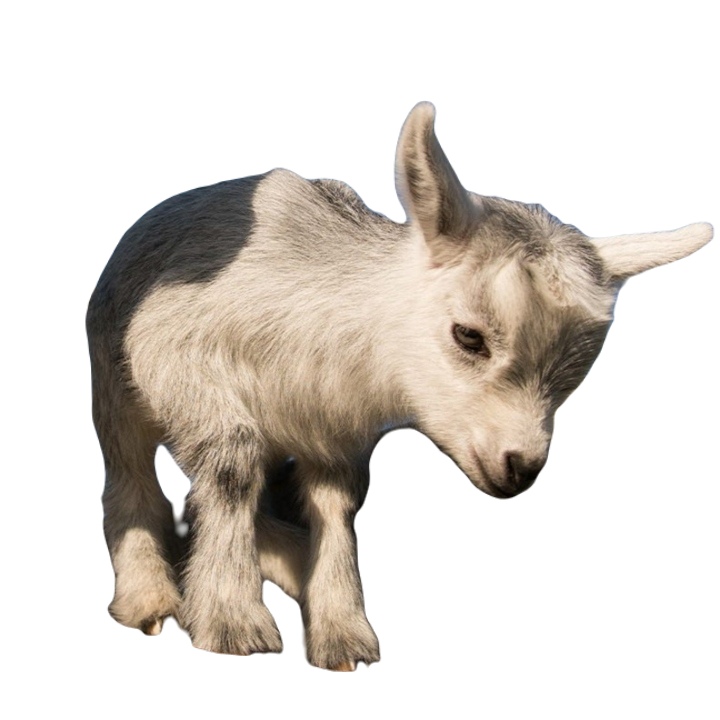Goat: (82, 103, 714, 675)
